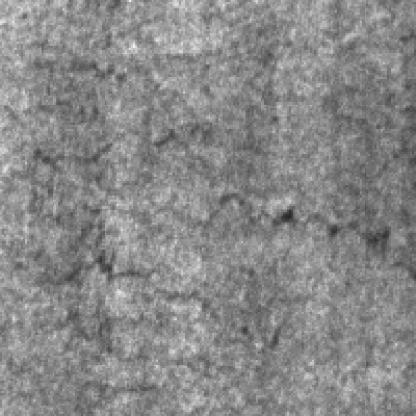crazing: (90, 248, 368, 358), (118, 169, 404, 274), (0, 133, 154, 285), (13, 297, 162, 389)
